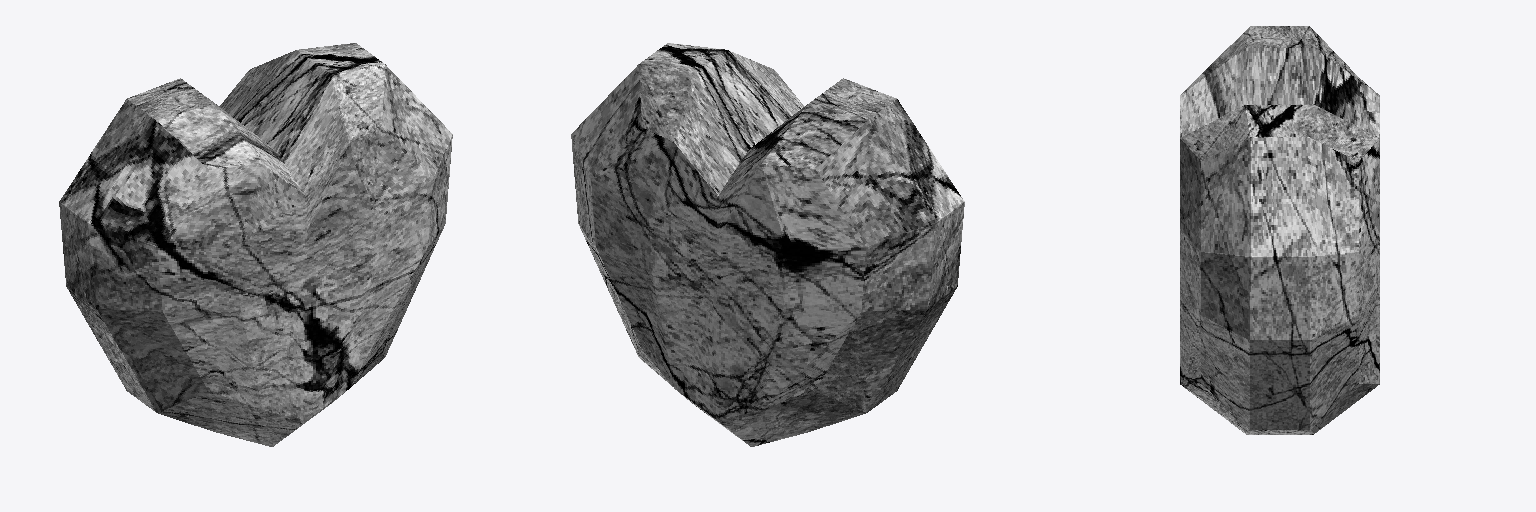
3 renders of one model, left to right at view 1: azimuth 30°, elevation 25°; view 2: azimuth 150°, elevation 25°; view 3: azimuth 270°, elevation 25°, orthographic.
Parts seen in each view (by area): view 1: Mesh; view 2: Mesh; view 3: Mesh.
Boxes of the visible parts, <box> form: Mesh: <box>59,43,452,446</box>; Mesh: <box>571,43,964,446</box>; Mesh: <box>1180,26,1379,434</box>.
Size of the model in its own units: 2.11 by 1.98 by 1.
Materials: 1 (1 with a texture image).